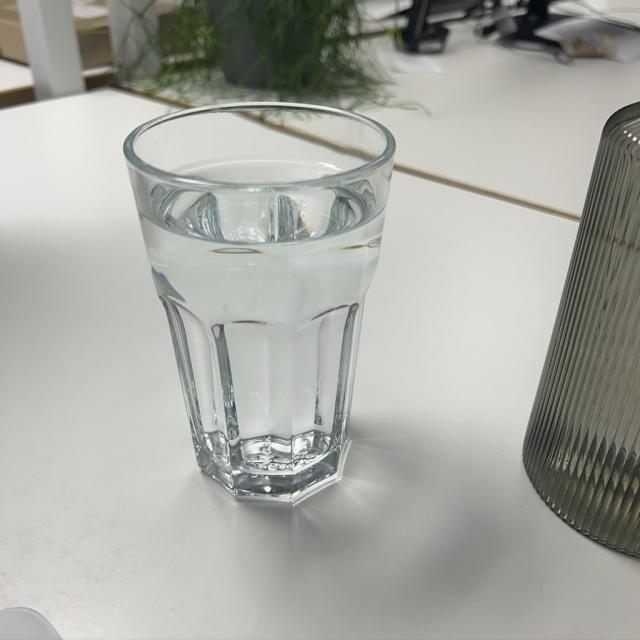water: (143, 166, 379, 479)
